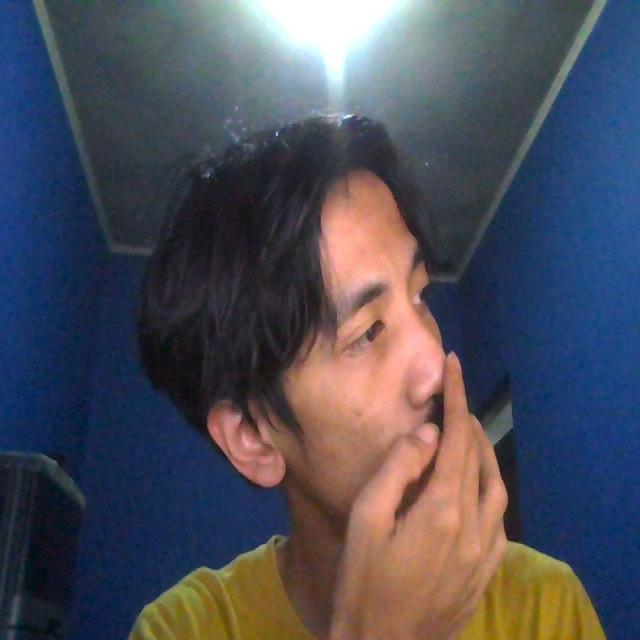melihat kekiri: (135, 118, 543, 570)
movement: (332, 363, 518, 637)
